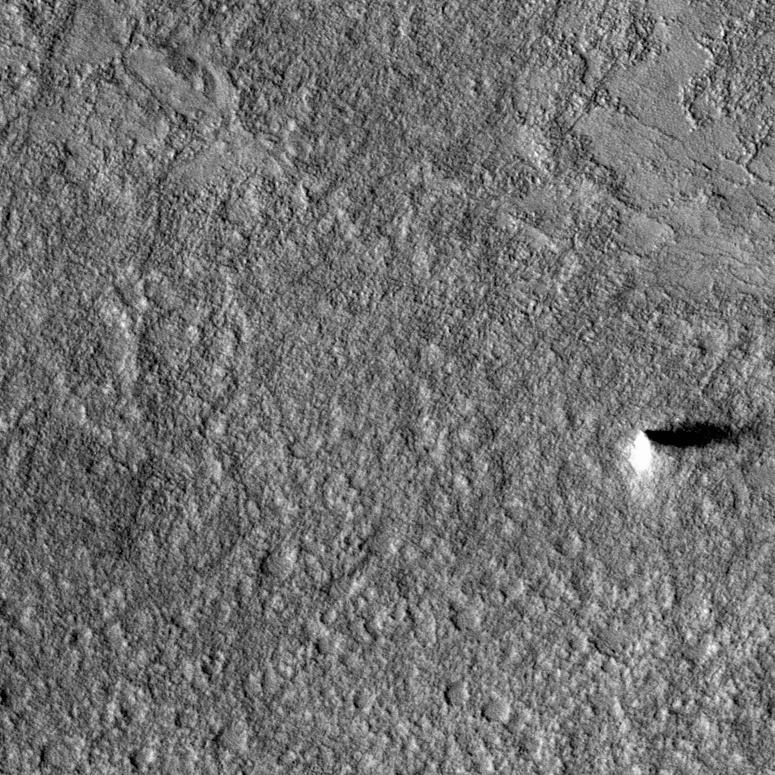dust_devil: (626, 416, 742, 479)
